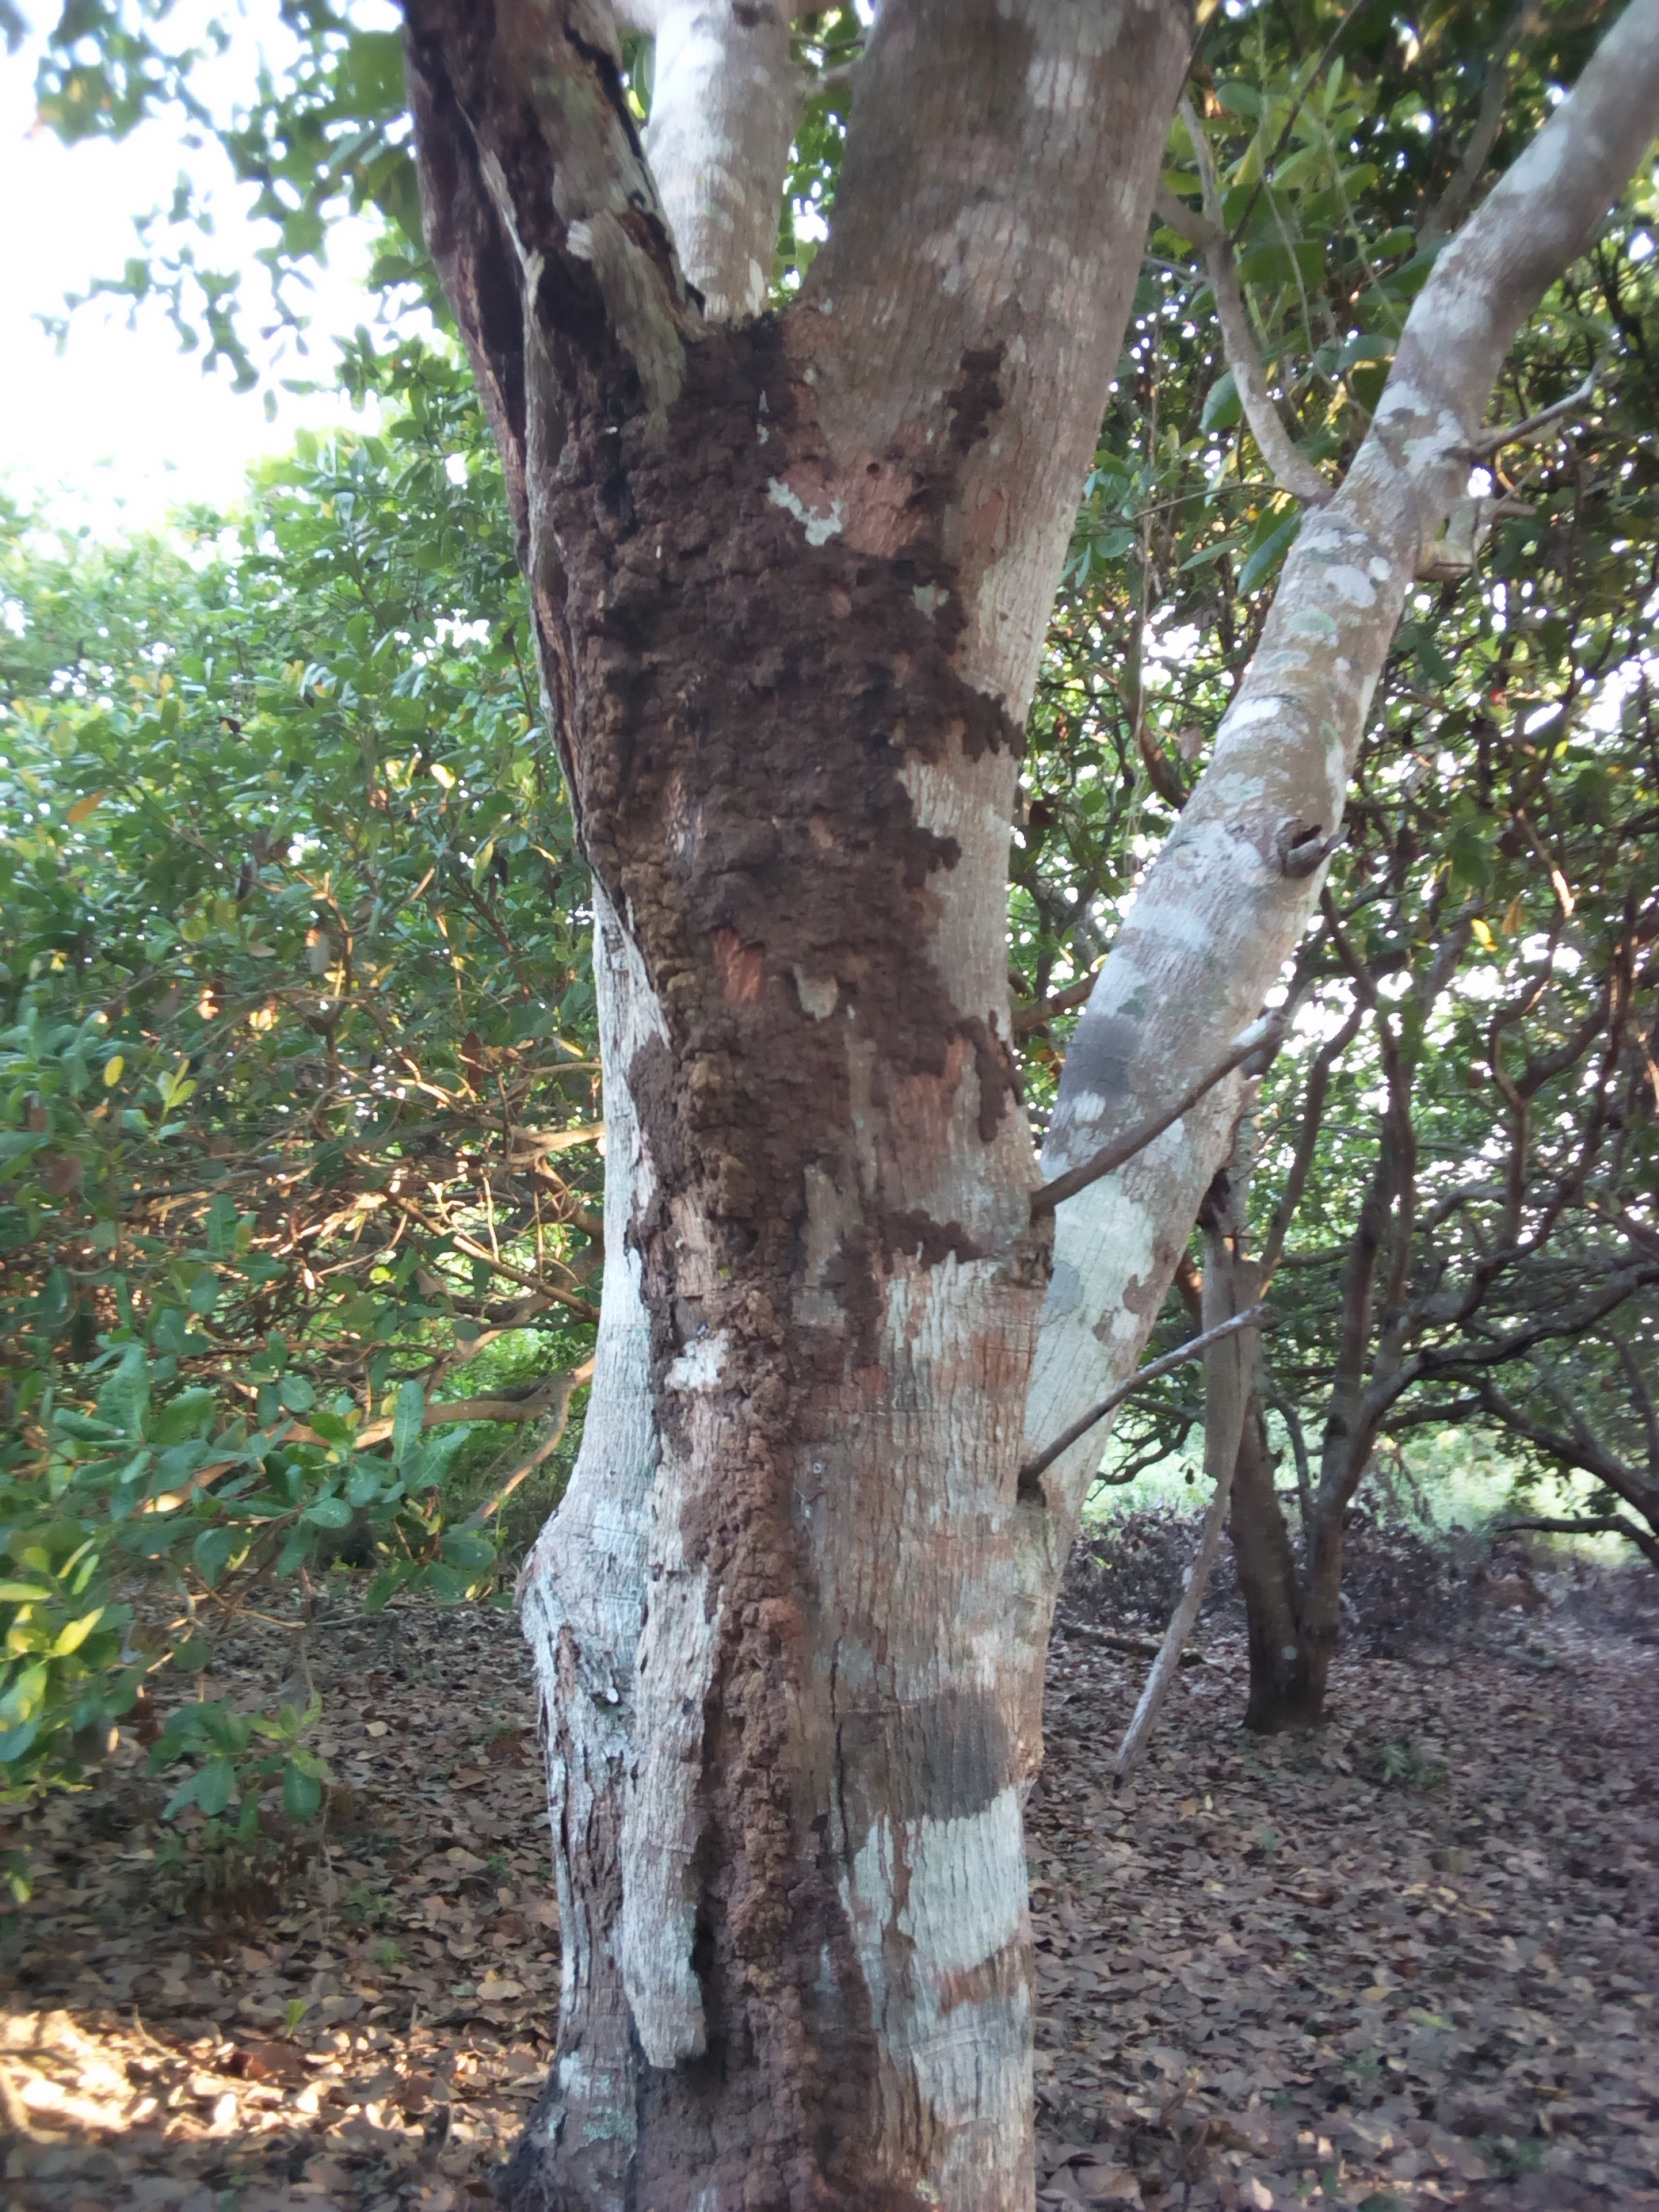Termites: (561, 364, 988, 2212)
